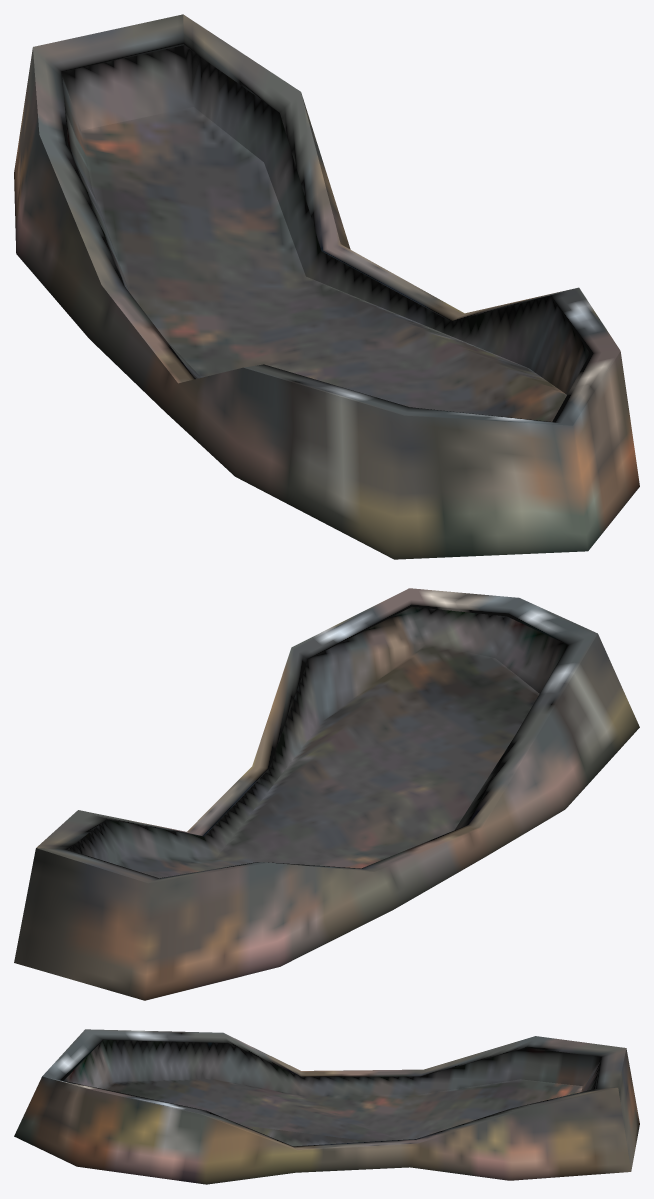
Rendered from eqp_comp_shoe_sole.fbx.
3 renders of one model, top to bottom at view 1: azimuth 30°, elevation 25°; view 2: azimuth 150°, elevation 25°; view 3: azimuth 270°, elevation 25°, orthographic. The views are drawn at different scales.
Parts seen in each view (by area): view 1: mesh_node; view 2: mesh_node; view 3: mesh_node.
Boxes of the visible parts, x1=… form: mesh_node: x1=14, y1=14, x2=639, y2=559; mesh_node: x1=14, y1=588, x2=639, y2=1000; mesh_node: x1=14, y1=1029, x2=639, y2=1184.
Size of the model in its own units: 0.1125 by 0.0409 by 0.2909.
Materials: 1 (1 with a texture image).
